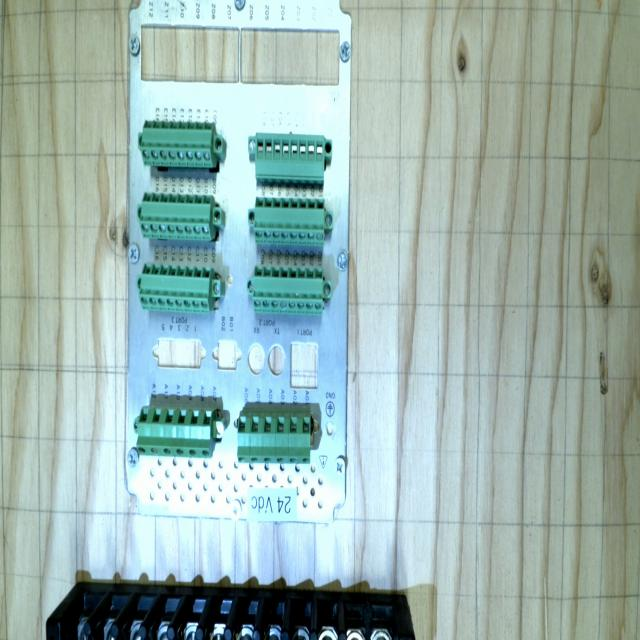Terminal_1: (136, 407, 213, 458), (237, 411, 311, 463)
Terminal_2: (138, 263, 213, 314), (253, 196, 326, 246), (139, 192, 213, 241), (140, 120, 214, 168), (252, 266, 324, 315)
